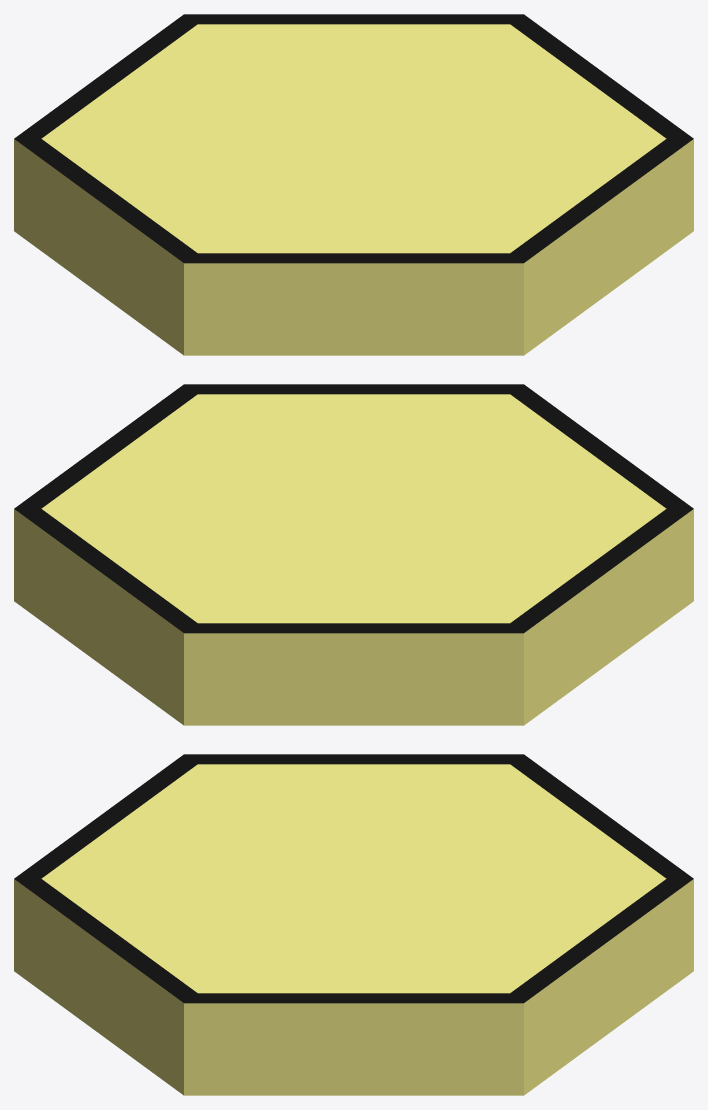
The model's file is _hover.glb.
3 renders of one model, top to bottom at view 1: azimuth 30°, elevation 25°; view 2: azimuth 150°, elevation 25°; view 3: azimuth 270°, elevation 25°, orthographic.
Parts seen in each view (by area): view 1: HoverTile; view 2: HoverTile; view 3: HoverTile.
Boxes of the visible parts, box(x1,y1,x2,y2) form: HoverTile: box(14, 14, 693, 355); HoverTile: box(14, 384, 693, 725); HoverTile: box(14, 754, 693, 1095).
Bounding box in the file's own units: 1.73 × 0.3 × 2.
1 material, 1 textured.
